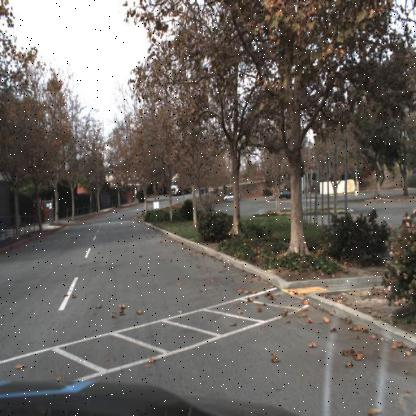car: (273, 186, 295, 202), (276, 187, 295, 201), (222, 192, 242, 204)
truck: (170, 170, 196, 197)
